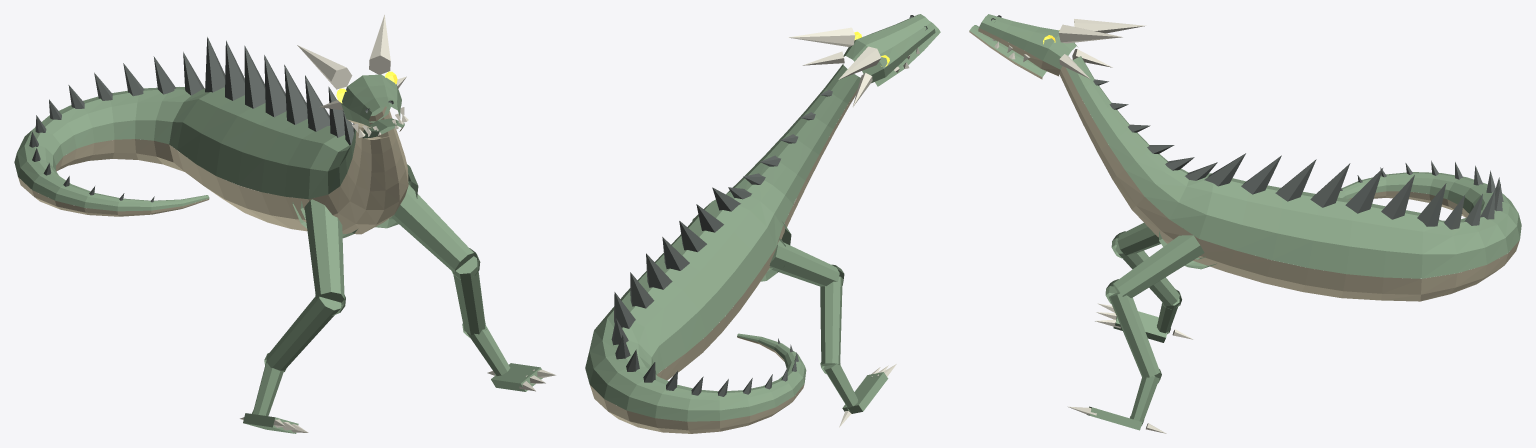
The model's file is dragons-and-wyverns-lindworm-coiled-517ec95b__36732.glb.
3 views of the same model, side by side, from view 1: azimuth 30°, elevation 25°; view 2: azimuth 150°, elevation 25°; view 3: azimuth 270°, elevation 25° (orthographic). The views are drawn at different scales.
Visible parts, largest first — view 1: lindworm-coiled; view 2: lindworm-coiled; view 3: lindworm-coiled.
Part boxes in pixels (bbox=[...]): lindworm-coiled: bbox=[14, 15, 555, 433]; lindworm-coiled: bbox=[585, 14, 940, 433]; lindworm-coiled: bbox=[969, 14, 1521, 433].
Size of the model in its own units: 1.77 by 2.17 by 3.14.
